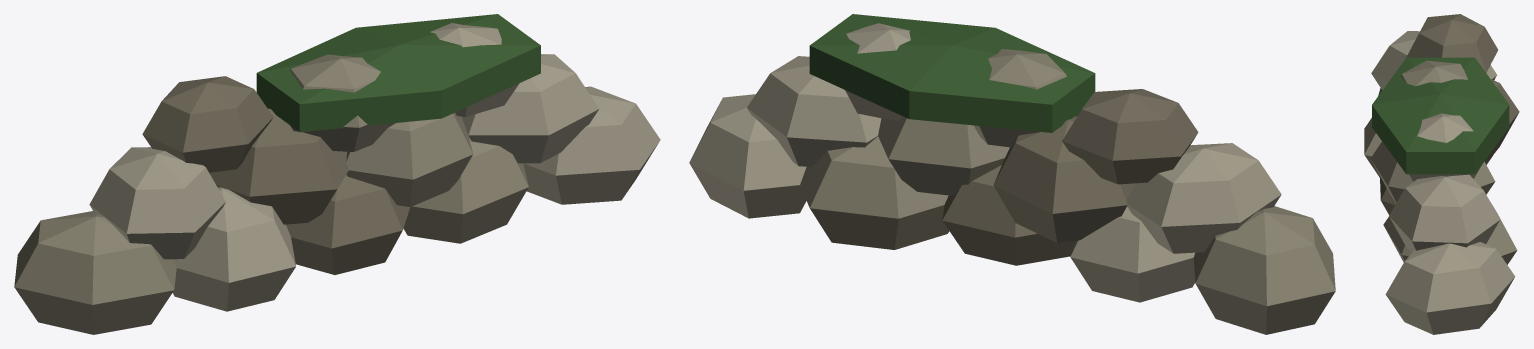
The model's file is cover_stone_wall.glb.
3 views of the same model, side by side, from view 1: azimuth 30°, elevation 25°; view 2: azimuth 150°, elevation 25°; view 3: azimuth 270°, elevation 25° (orthographic). The views are drawn at different scales.
Visible parts, largest first — view 1: cover_stone_wall; view 2: cover_stone_wall; view 3: cover_stone_wall.
Part boxes in pixels (x1,y1,x2,y2): cover_stone_wall: (14, 14, 660, 334); cover_stone_wall: (689, 14, 1335, 334); cover_stone_wall: (1364, 14, 1519, 334).
Size of the model in its own units: 2.07 by 0.659 by 0.5479.
